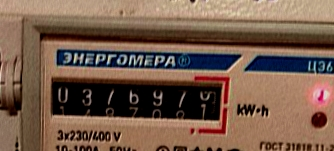0: (58, 84, 71, 104)
1: (200, 101, 211, 119)
3: (82, 86, 95, 106)
6: (129, 84, 142, 105)
7: (105, 84, 118, 106), (177, 87, 189, 109)
9: (153, 86, 165, 108)
screen: (45, 68, 236, 135)
